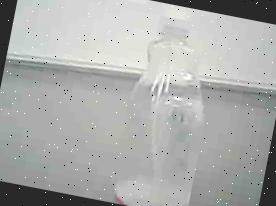hazard: (103, 0, 239, 206)
